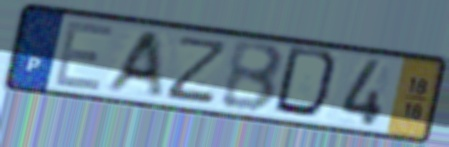4: (338, 56, 386, 128)
A: (100, 30, 166, 97)
B: (218, 40, 287, 115)
D: (270, 44, 346, 123)
E: (50, 19, 117, 94)
Z: (161, 34, 232, 106)
